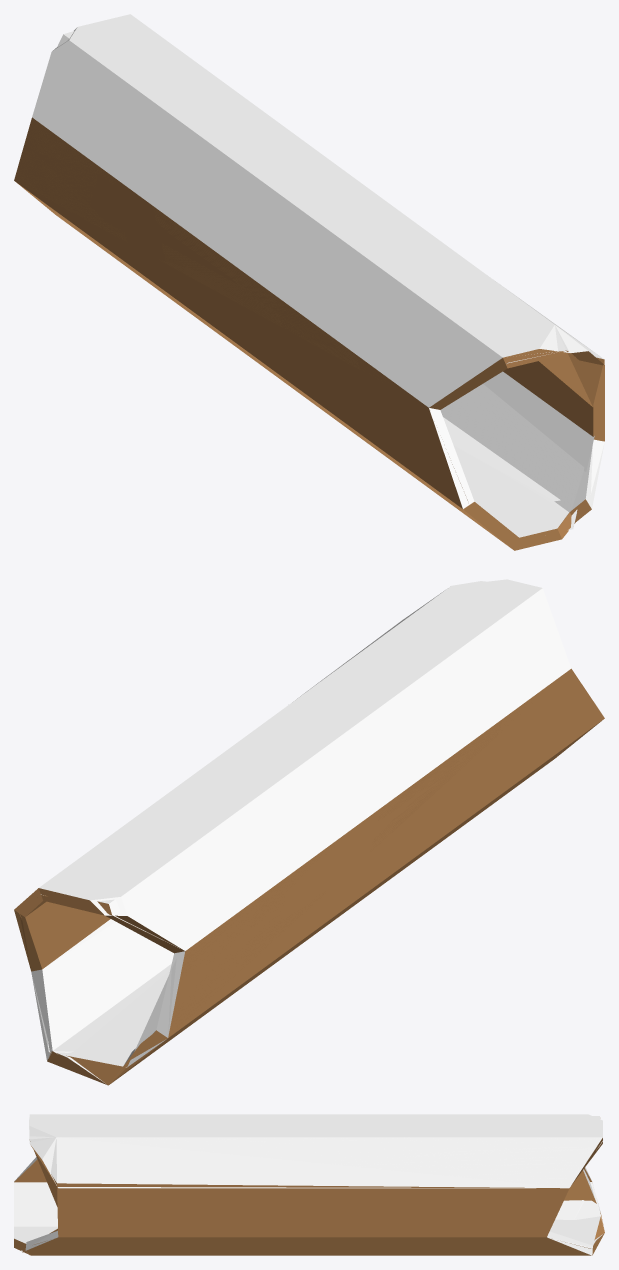
The model's file is Log_8_Snowy.fbx.
3 views of the same model, one above another, from view 1: azimuth 30°, elevation 25°; view 2: azimuth 150°, elevation 25°; view 3: azimuth 270°, elevation 25° (orthographic). The views are drawn at different scales.
Parts seen in each view (by area): view 1: Log 8_LOD0_Snowy, Log 8_LOD1_Snowy, Log 8_LOD2_Snowy; view 2: Log 8_LOD0_Snowy, Log 8_LOD1_Snowy, Log 8_LOD2_Snowy; view 3: Log 8_LOD0_Snowy, Log 8_LOD1_Snowy, Log 8_LOD2_Snowy.
Part boxes in pixels (x1,y1,x2,y2): Log 8_LOD0_Snowy: [14, 14, 604, 550]; Log 8_LOD1_Snowy: [14, 31, 604, 550]; Log 8_LOD2_Snowy: [443, 350, 604, 530]; Log 8_LOD0_Snowy: [25, 579, 604, 1085]; Log 8_LOD1_Snowy: [14, 581, 542, 1071]; Log 8_LOD2_Snowy: [19, 894, 176, 1085]; Log 8_LOD0_Snowy: [14, 1114, 604, 1255]; Log 8_LOD1_Snowy: [15, 1116, 602, 1254]; Log 8_LOD2_Snowy: [21, 1120, 604, 1252].
Size of the model in its own units: 55.45 by 55.45 by 250.
